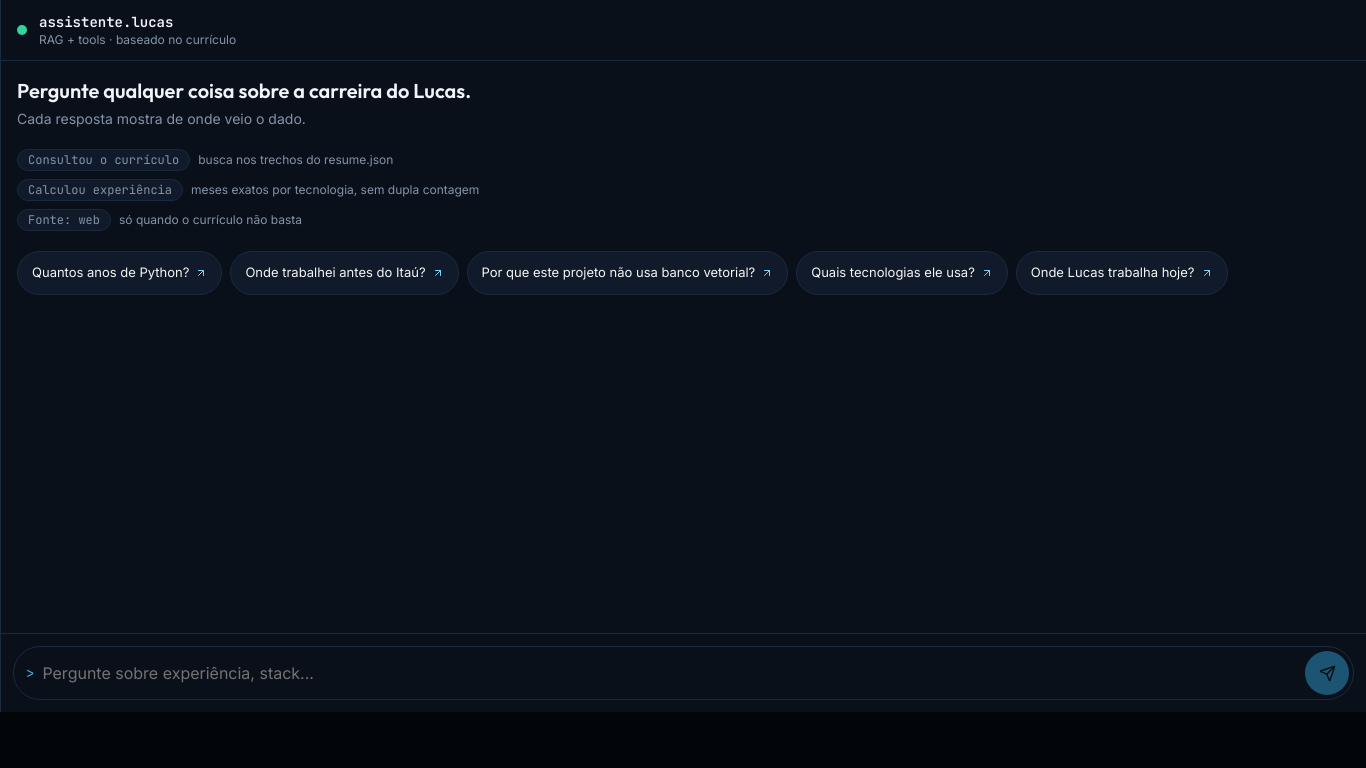
Scenario: ChatAside › mostra o selo de web quando a resposta veio da busca externa
In the field named "pergunte ao assistente sobre a carreira": point(670, 673) [42, 651, 1297, 695], type "O que é SDD?"
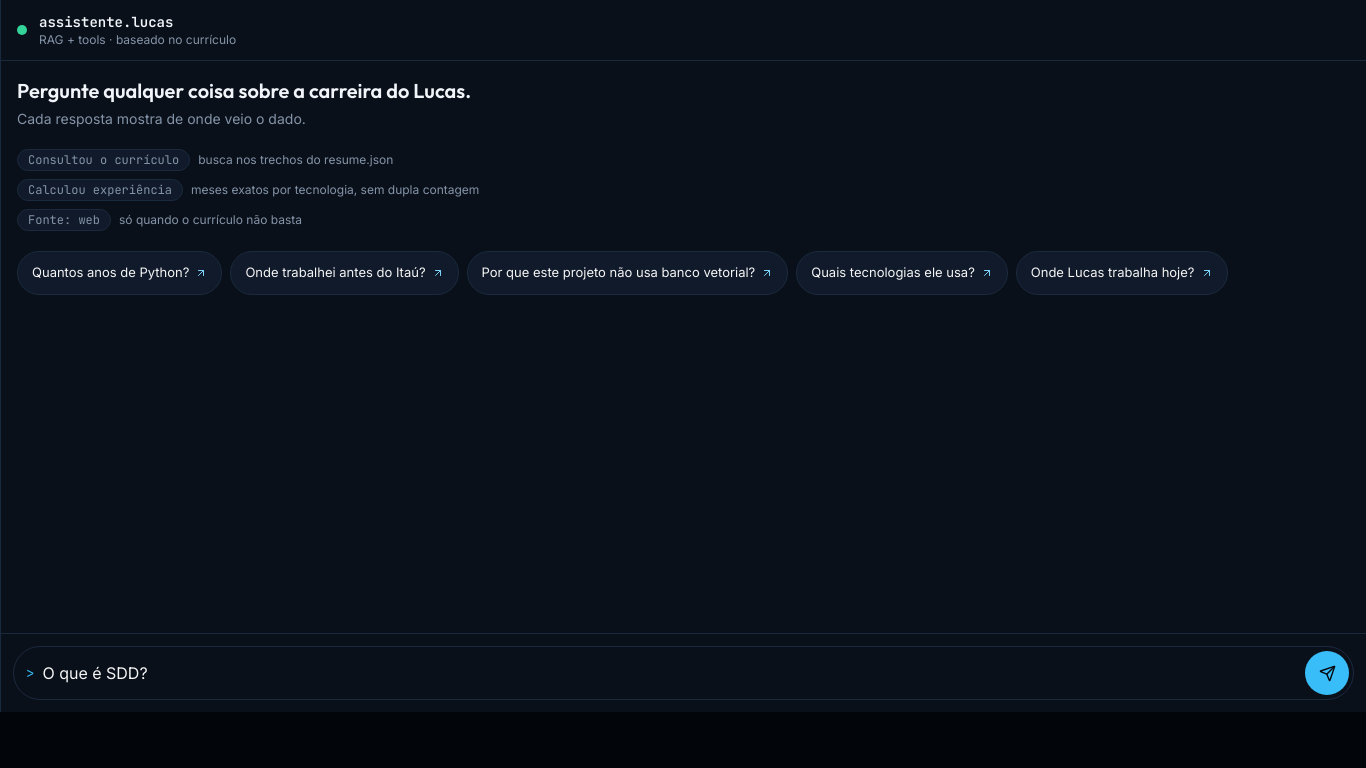
Click the button named "Enviar pergunta": point(1327, 673) [1305, 651, 1349, 695]
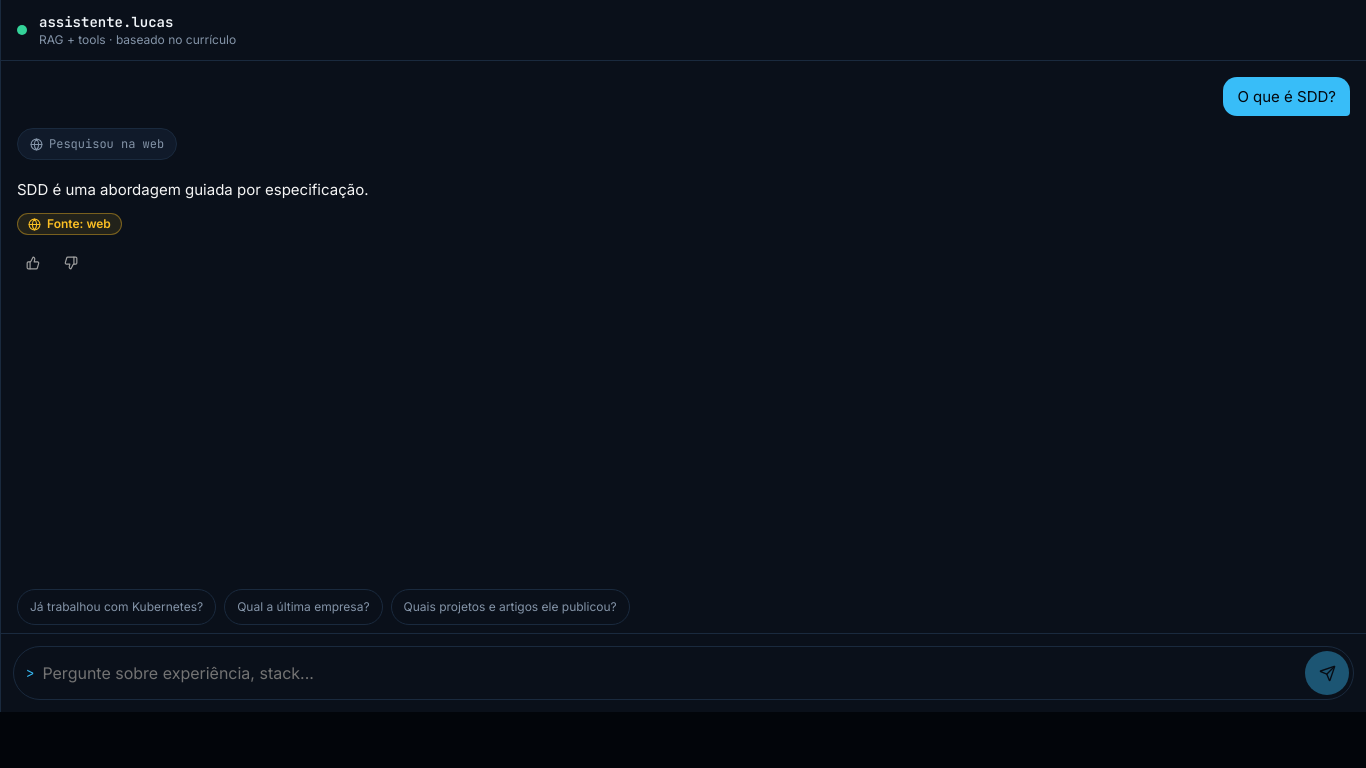
Expected: the text "Fonte: web" is shown, [17, 213, 122, 235]
Result: the button "Pesquisou na web" is shown at [17, 128, 177, 160]
